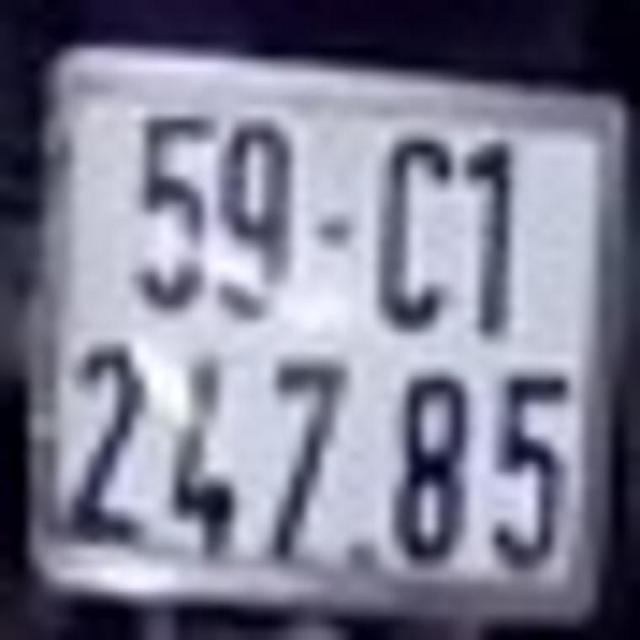1: (463, 131, 521, 344)
2: (70, 339, 148, 544)
4: (171, 345, 241, 554)
5: (494, 364, 574, 570), (136, 111, 212, 320)
7: (266, 348, 360, 567)
8: (392, 364, 464, 568)
9: (216, 114, 294, 325)
C: (374, 128, 452, 334)
